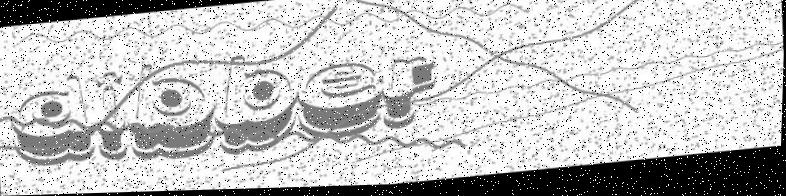b: (125, 56, 221, 165), (214, 48, 304, 161)
d: (1, 69, 98, 170)
e: (295, 57, 385, 145)
i: (94, 68, 133, 161)
r: (376, 52, 442, 137)
